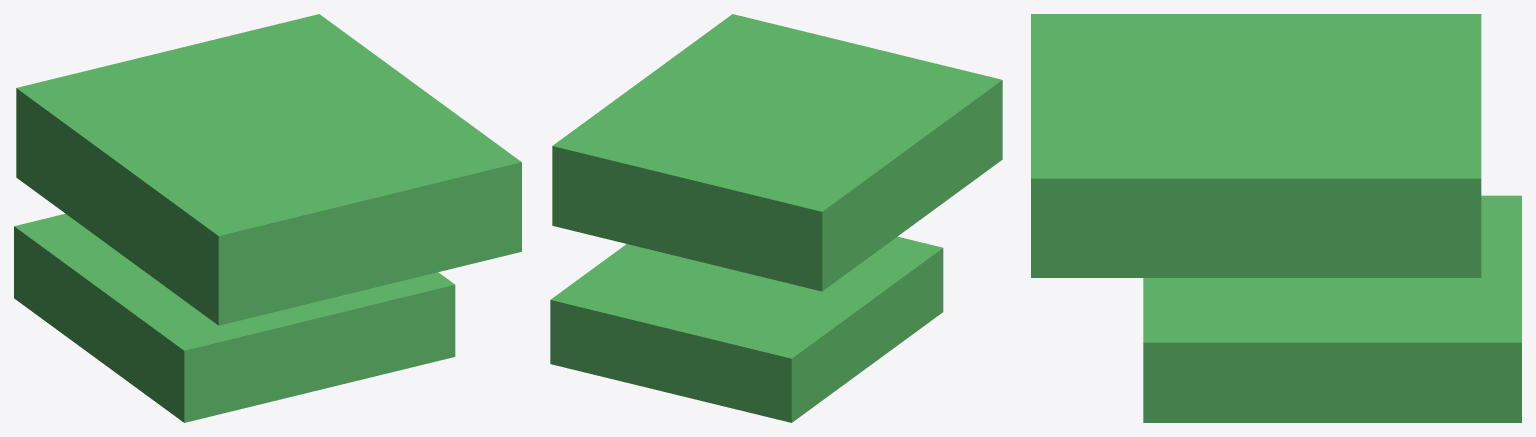
The model's file is ballista_orientable_collision.glb.
3 views of the same model, side by side, from view 1: azimuth 30°, elevation 25°; view 2: azimuth 150°, elevation 25°; view 3: azimuth 270°, elevation 25° (orthographic). The views are drawn at different scales.
Parts seen in each view (by area): view 1: ballista_orientable-col-upper, ballista_orientable-col-base; view 2: ballista_orientable-col-upper, ballista_orientable-col-base; view 3: ballista_orientable-col-upper, ballista_orientable-col-base.
Boxes of the visible parts, left/top/right/bottom form: ballista_orientable-col-upper: left=16, top=14, right=521, bottom=325; ballista_orientable-col-base: left=14, top=213, right=455, bottom=422; ballista_orientable-col-upper: left=552, top=14, right=1002, bottom=291; ballista_orientable-col-base: left=550, top=236, right=943, bottom=422; ballista_orientable-col-upper: left=1031, top=14, right=1481, bottom=277; ballista_orientable-col-base: left=1143, top=195, right=1521, bottom=422.
Size of the model in its own units: 2.55 by 1.83 by 3.22.
